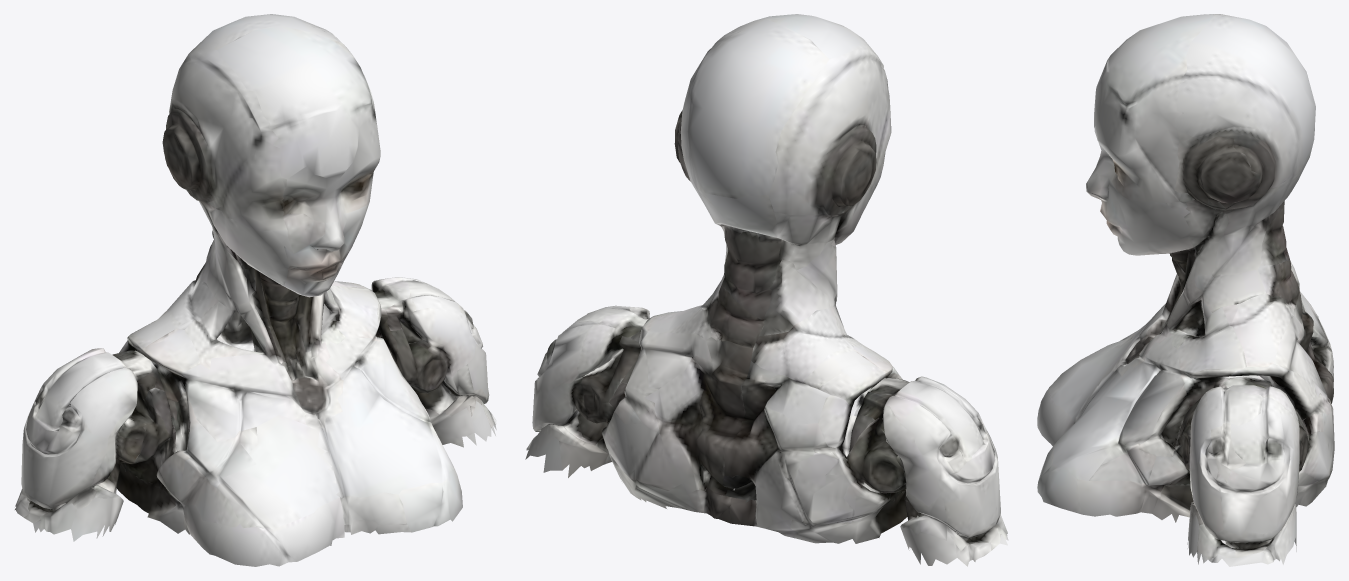
File: android-bust-lo.glb
3 renders of one model, left to right at view 1: azimuth 30°, elevation 25°; view 2: azimuth 150°, elevation 25°; view 3: azimuth 270°, elevation 25°, orthographic. The views are drawn at different scales.
Visible parts, largest first — view 1: android; view 2: android; view 3: android.
Part boxes in pixels (x1,y1,x2,y2): android: (15, 14, 496, 566); android: (525, 14, 1008, 566); android: (1037, 14, 1334, 566).
Size of the model in its own units: 0.4998 by 0.4809 by 0.2916.
Materials: 1 (1 with a texture image).
